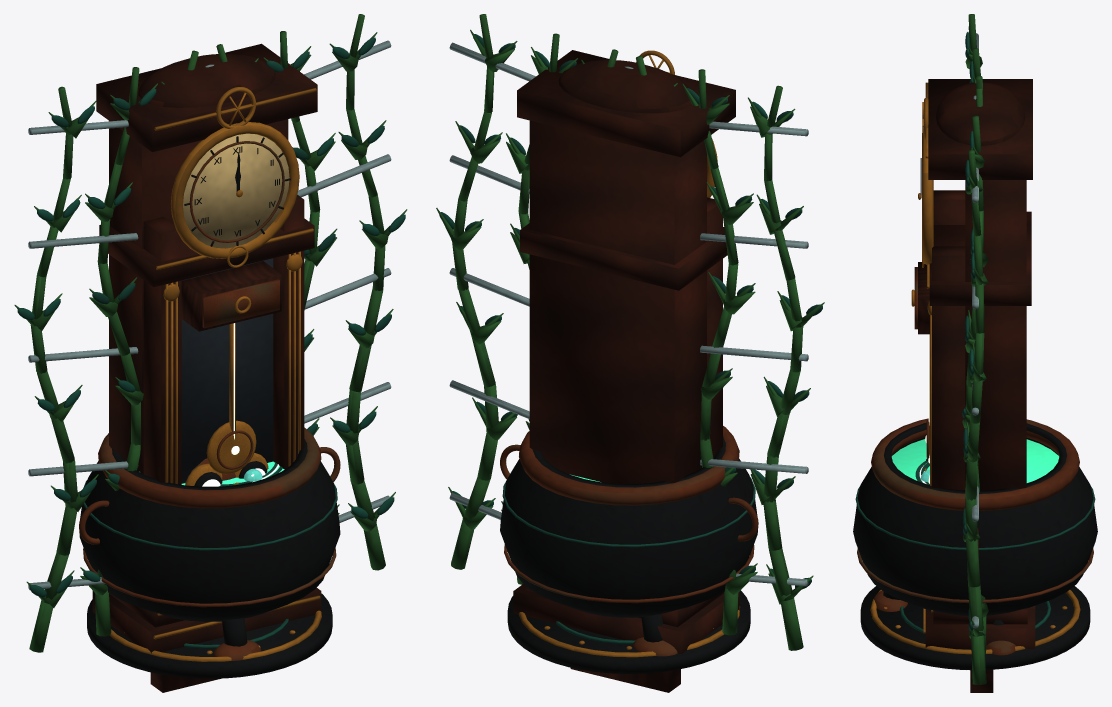
File: alchemy-kit.glb
3 renders of one model, left to right at view 1: azimuth 30°, elevation 25°; view 2: azimuth 150°, elevation 25°; view 3: azimuth 270°, elevation 25°, orthographic. The views are drawn at different scales.
Parts seen in each view (by area): view 1: GrandfatherClock_Visual, AlchemyCauldron_Visual, ThornWardRight_Visual, ThornWardLeft_Visual, AstralLiftMedallion_Visual, ClockCompartment_Visual, ClockPendulum_Visual, OwlHead_Visual, ClockClueDial_Visual; view 2: GrandfatherClock_Visual, AlchemyCauldron_Visual, ThornWardRight_Visual, ThornWardLeft_Visual, AstralLiftMedallion_Visual, ClockClueDial_Visual; view 3: GrandfatherClock_Visual, AlchemyCauldron_Visual, ThornWardLeft_Visual, AstralLiftMedallion_Visual, ClockCompartment_Visual, ThornWardRight_Visual.
Boxes of the visible parts, box(x1,y1,x2,y2) form: GrandfatherClock_Visual: box(92, 43, 321, 653); AlchemyCauldron_Visual: box(79, 427, 340, 660); ThornWardRight_Visual: box(14, 50, 213, 652); ThornWardLeft_Visual: box(205, 14, 407, 570); AstralLiftMedallion_Visual: box(87, 593, 332, 678); ClockCompartment_Visual: box(181, 261, 281, 331); ClockPendulum_Visual: box(206, 323, 256, 474); OwlHead_Visual: box(185, 453, 268, 486); ClockClueDial_Visual: box(150, 672, 220, 692); GrandfatherClock_Visual: box(513, 50, 739, 653); AlchemyCauldron_Visual: box(500, 426, 758, 656); ThornWardRight_Visual: box(625, 56, 824, 650); ThornWardLeft_Visual: box(436, 14, 633, 584); AstralLiftMedallion_Visual: box(507, 590, 750, 673); ClockClueDial_Visual: box(570, 667, 680, 692); GrandfatherClock_Visual: box(922, 79, 1035, 648); AlchemyCauldron_Visual: box(853, 418, 1097, 655); ThornWardLeft_Visual: box(962, 88, 988, 684); AstralLiftMedallion_Visual: box(860, 586, 1090, 670); ClockCompartment_Visual: box(911, 262, 929, 334); ThornWardRight_Visual: box(965, 14, 982, 99).
Size of the model in its own units: 1.66 by 2.54 by 0.96.
17 materials, 17 textured.
